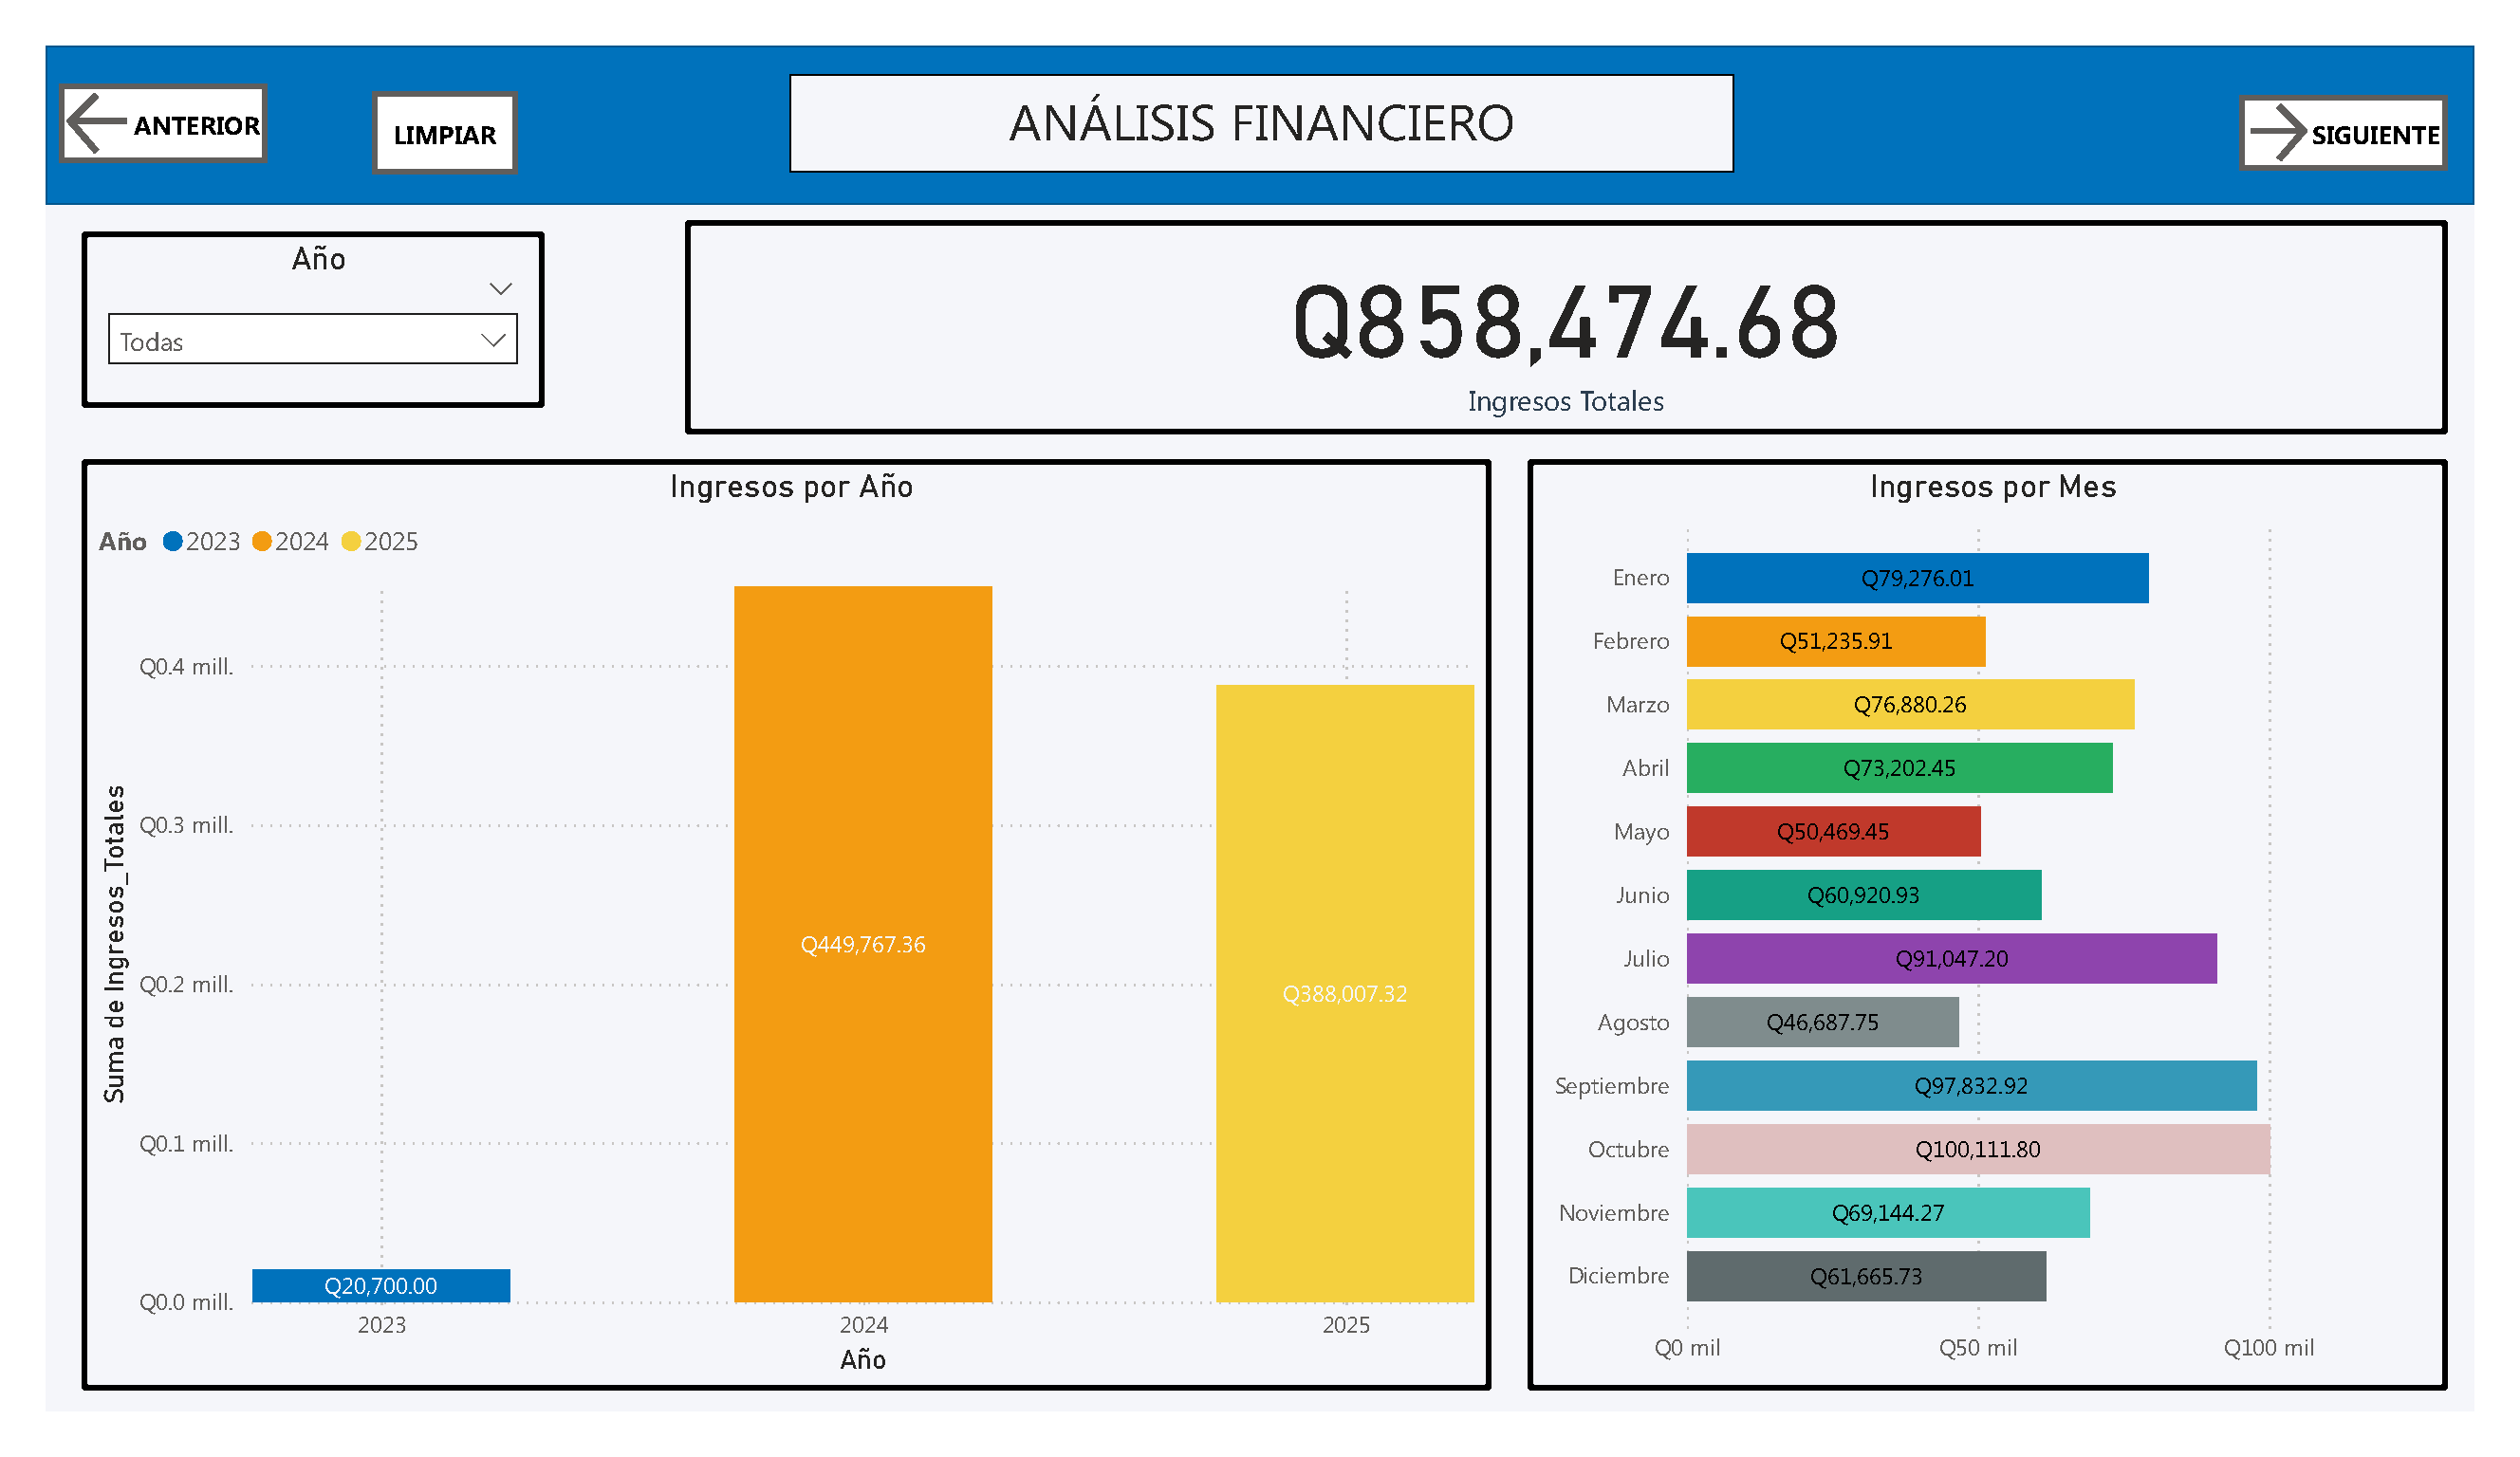

What the dashboard file says about the page in this screenshot:
{"tool":"powerbi","page":{"name":"INGRESOS","canvas":[1280,720],"ordinal":2},"visuals":[{"type":"columnChart","title":"Ingresos por Año","fields":{"Y":["Sum(ingresos_mensuales.Ingresos_Totales)"],"Category":["ingresos_mensuales.Año"],"Series":["ingresos_mensuales.Año"]},"box":[19.3,217.8,742.8,491.7],"z":0},{"type":"barChart","title":"Ingresos por Mes","fields":{"Y":["Sum(ingresos_mensuales.Ingresos_Totales)","select"],"Series":["ingresos_mensuales.Nombre_Mes"],"Category":["ingresos_mensuales.Nombre_Mes"]},"box":[781.5,217.8,484.7,491.7],"z":1000},{"type":"card","fields":{"Values":["Sum(ingresos_mensuales.Ingresos_Totales)"]},"box":[337.2,92.2,929,113.3],"z":2000},{"type":"slicer","title":"Año","fields":{"Values":["ingresos_mensuales.Año"]},"box":[19.3,98.3,243.2,93.1],"z":3000},{"type":"shape","box":[0,0,1280,83.8],"z":4000},{"type":"textbox","box":[391.7,15,498.3,51.7],"z":5000},{"type":"actionButton","box":[1155.5,26.3,110.6,39.5],"z":6000},{"type":"actionButton","title":"Atras","box":[7,20.2,109.8,42.1],"z":7000},{"type":"actionButton","box":[172.1,23.7,77.3,44.8],"z":8000}]}

Visuals, with their boxes in screenshot pixels (x1, y1, x2, y2), scaled from the page's 1280x720 canvas onto the 2520x1457 screenshot:
"Ingresos por Año" columnChart: <bbox>38, 441, 1500, 1436</bbox>
"Ingresos por Mes" barChart: <bbox>1539, 441, 2492, 1436</bbox>
card - Sum(ingresos_mensuales.Ingresos_Totales): <bbox>664, 187, 2492, 415</bbox>
"Año" slicer: <bbox>38, 199, 517, 387</bbox>
shape: <bbox>0, 0, 2519, 170</bbox>
textbox: <bbox>771, 30, 1752, 135</bbox>
actionButton: <bbox>2275, 53, 2492, 133</bbox>
"Atras" actionButton: <bbox>14, 41, 230, 126</bbox>
actionButton: <bbox>339, 48, 491, 138</bbox>
